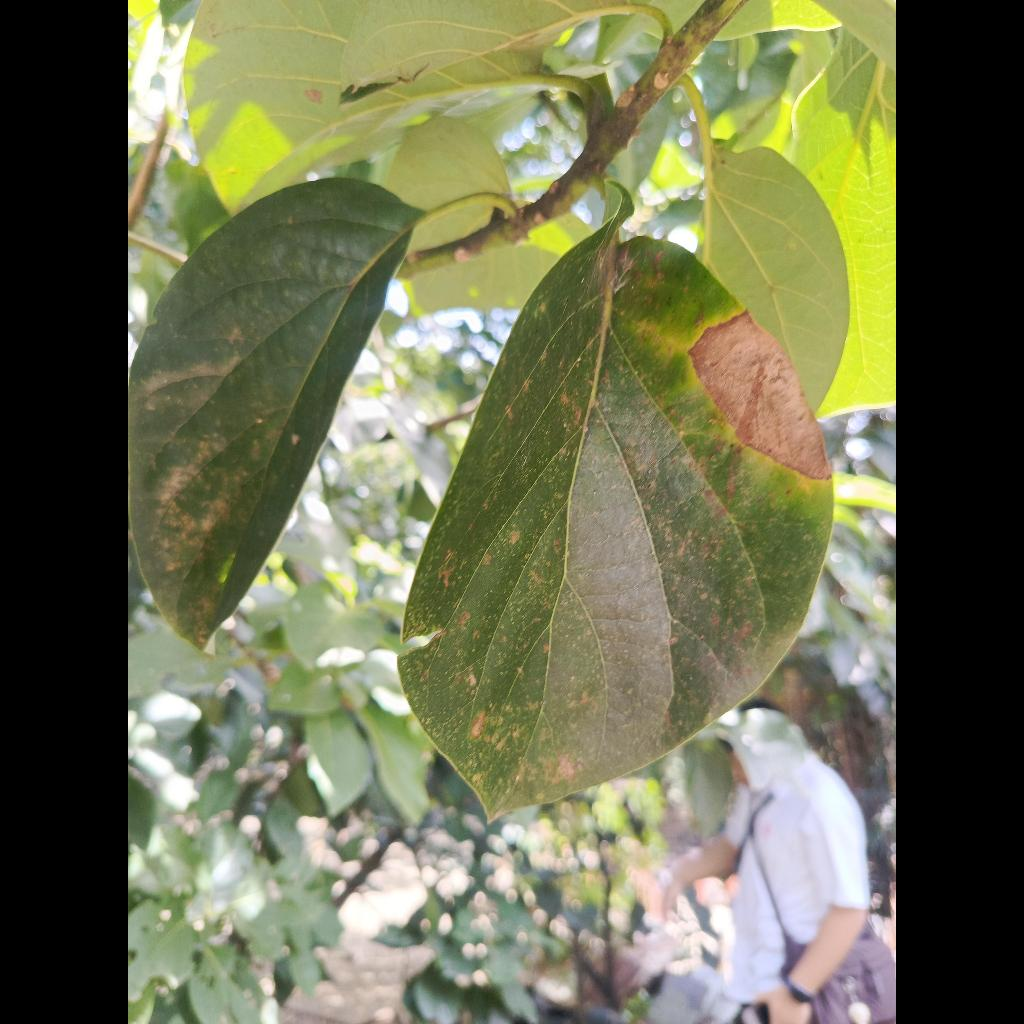Anthracnose: (401, 216, 833, 817)
